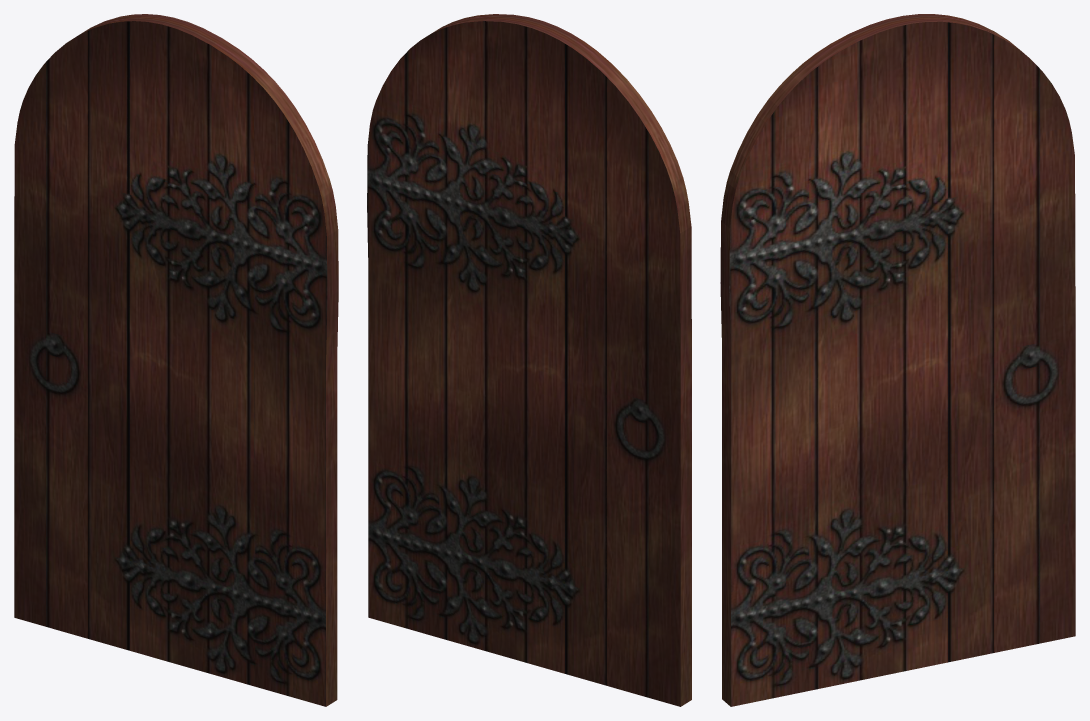
Rendered from door 19.obj.
The picture shows the model from 3 angles, left to right: view 1: azimuth 30°, elevation 25°; view 2: azimuth 210°, elevation 25°; view 3: azimuth 270°, elevation 25°; orthographic projection.
Parts seen in each view (by area): view 1: door_10:Mesh; view 2: door_10:Mesh; view 3: door_10:Mesh.
Boxes of the visible parts, left/top/right/bottom form: door_10:Mesh: left=14, top=14, right=338, bottom=706; door_10:Mesh: left=367, top=14, right=691, bottom=706; door_10:Mesh: left=720, top=14, right=1075, bottom=706.
Size of the model in its own units: 31.33 by 120 by 59.67.
1 material, 1 textured.
